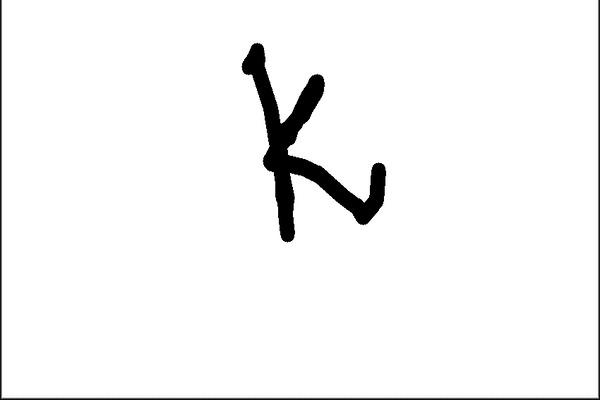K: (233, 35, 395, 247)
